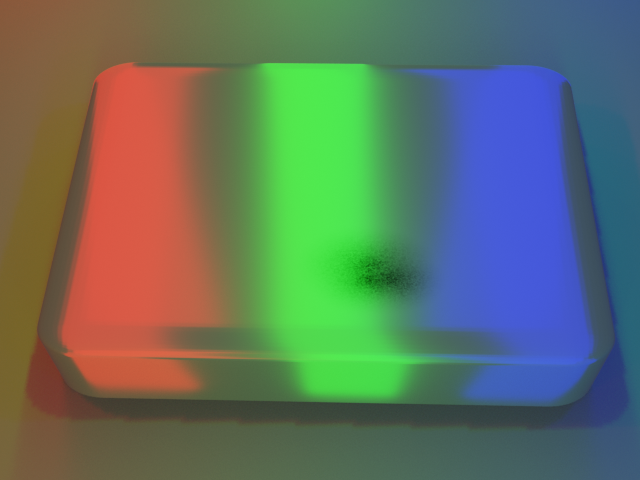stain: (271, 221, 487, 350)
